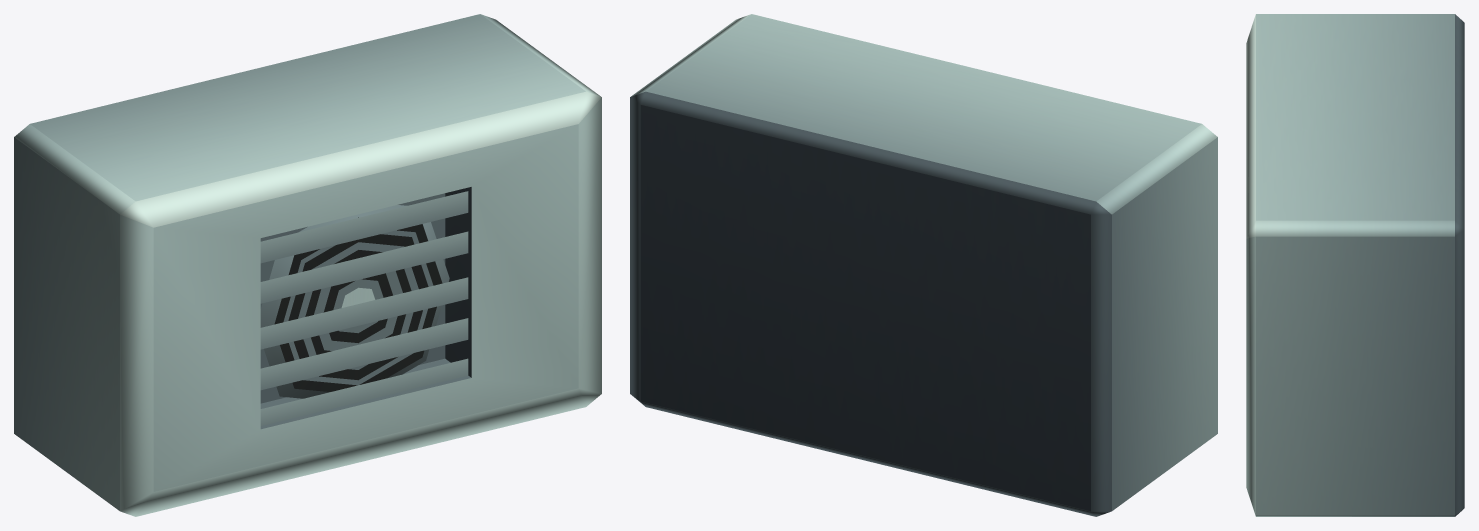
File: airco_unit_02.fbx
3 views of the same model, side by side, from view 1: azimuth 30°, elevation 25°; view 2: azimuth 150°, elevation 25°; view 3: azimuth 270°, elevation 25° (orthographic). The views are drawn at different scales.
Visible parts, largest first — view 1: airco_unit_02; view 2: airco_unit_02; view 3: airco_unit_02.
Boxes of the visible parts, bbox=[...] form: airco_unit_02: bbox=[14, 14, 601, 516]; airco_unit_02: bbox=[630, 14, 1217, 516]; airco_unit_02: bbox=[1246, 14, 1464, 516].
Size of the model in its own units: 88.17 by 55.17 by 36.88.
